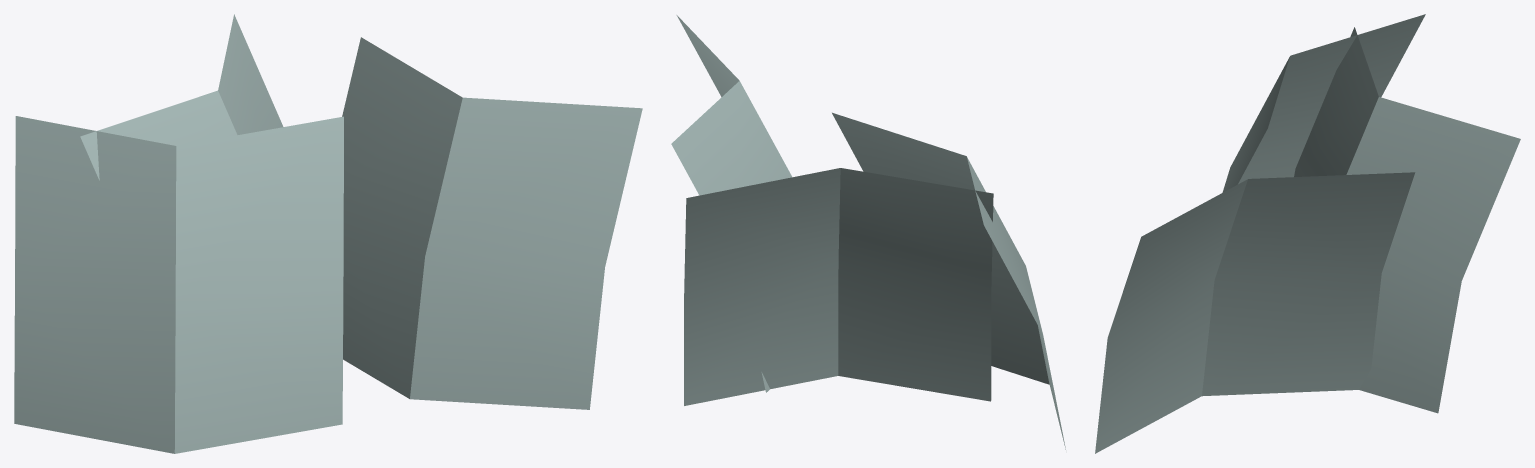
3 views of the same model, side by side, from view 1: azimuth 30°, elevation 25°; view 2: azimuth 150°, elevation 25°; view 3: azimuth 270°, elevation 25° (orthographic). The views are drawn at different scales.
Visible parts, largest first — view 1: Object16; view 2: Object16; view 3: Object16.
Boxes of the visible parts, box(x1,y1,x2,y2) form: Object16: box(14, 14, 642, 453); Object16: box(671, 15, 1065, 449); Object16: box(1095, 14, 1520, 453).
Size of the model in its own units: 80.52 by 39 by 59.47.
